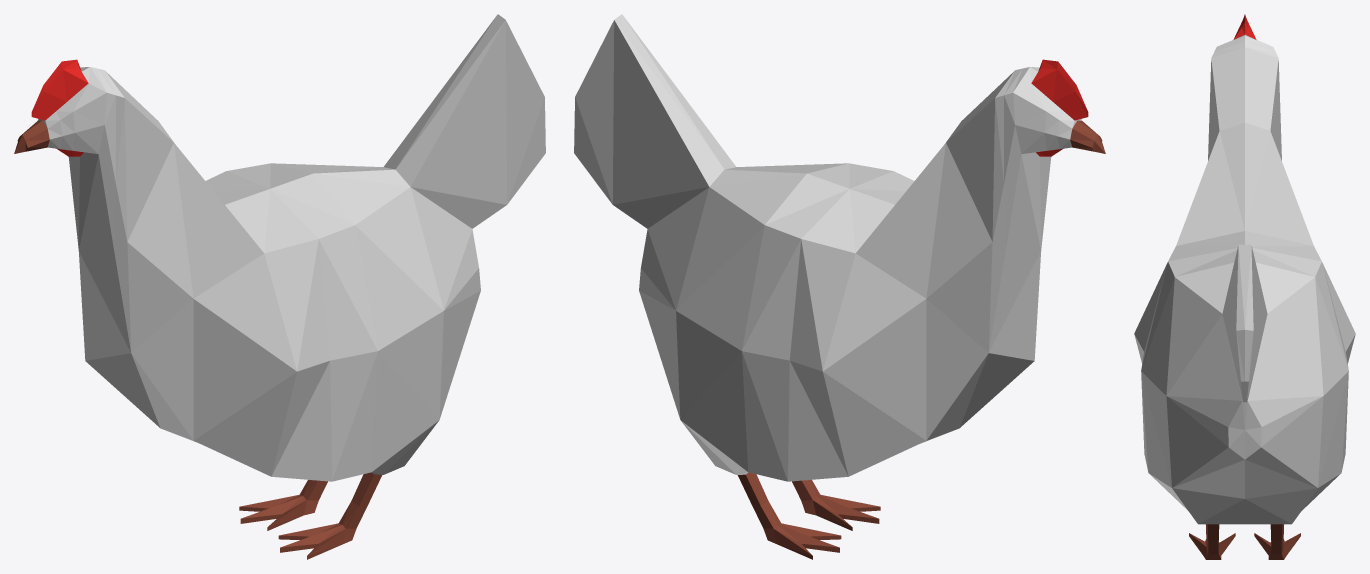
Rendered from chicken.glb.
3 renders of one model, left to right at view 1: azimuth 30°, elevation 25°; view 2: azimuth 150°, elevation 25°; view 3: azimuth 270°, elevation 25°, orthographic. The views are drawn at different scales.
Visible parts, largest first — view 1: Chicken low poly; view 2: Chicken low poly; view 3: Chicken low poly.
Boxes of the visible parts, x1,y1,x2,y2 form: Chicken low poly: [14, 14, 545, 559]; Chicken low poly: [574, 14, 1105, 559]; Chicken low poly: [1134, 14, 1355, 559].
Bounding box in the file's own units: 0.2131 × 0.2025 × 0.0929.
